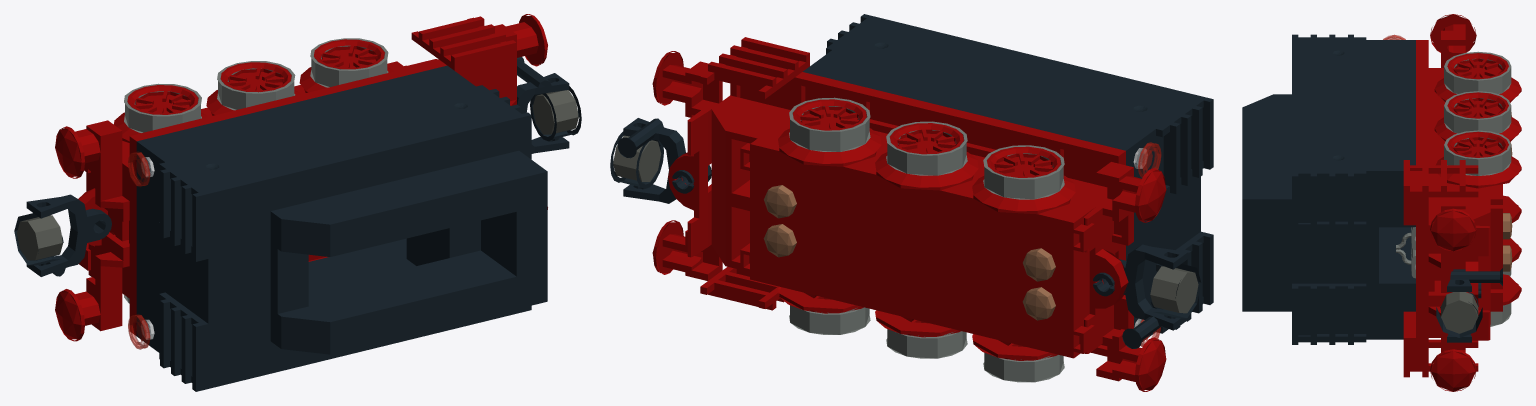
Rendered from tender-motor.glb.
3 renders of one model, left to right at view 1: azimuth 30°, elevation 25°; view 2: azimuth 150°, elevation 25°; view 3: azimuth 270°, elevation 25°, orthographic. The views are drawn at different scales.
Bounding box in the file's own units: 139 × 54.4 × 72.
